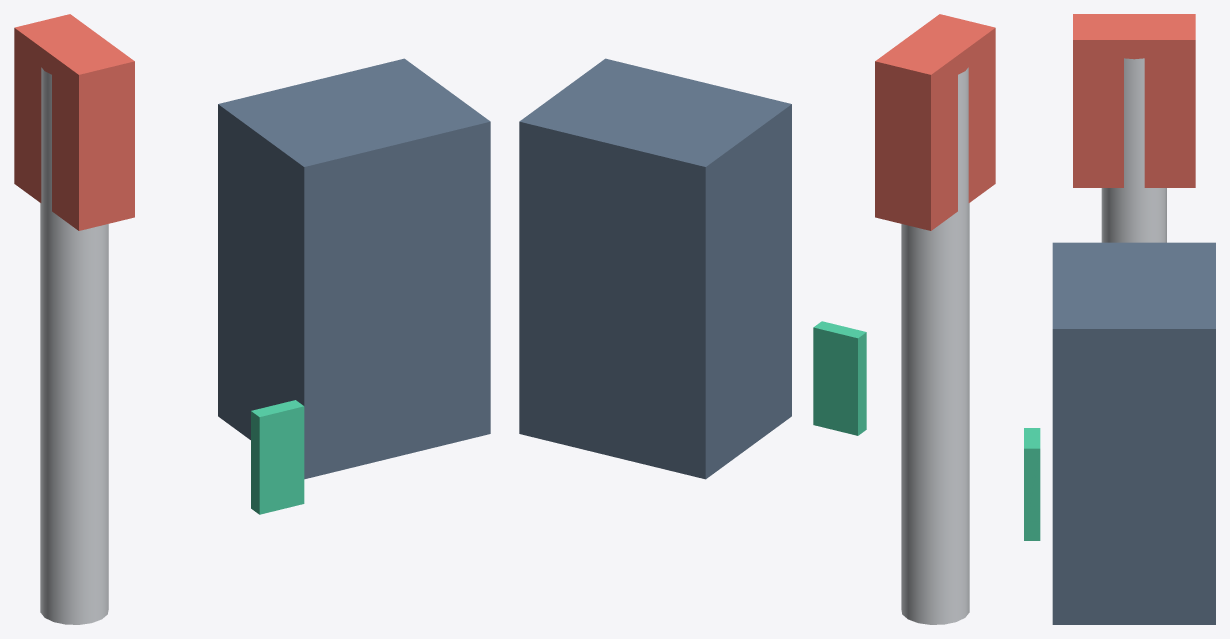
File: cellular_frequency_reuse_handoff.glb
The picture shows the model from 3 angles, left to right: view 1: azimuth 30°, elevation 25°; view 2: azimuth 150°, elevation 25°; view 3: azimuth 270°, elevation 25°; orthographic projection. The views are drawn at different scales.
Visible parts, largest first — view 1: MobileSwitchingCenterRack, BaseTransceiverStationMast, TriSectorPanelAntennaArray, CellularMobileHandsetUnit; view 2: MobileSwitchingCenterRack, BaseTransceiverStationMast, TriSectorPanelAntennaArray, CellularMobileHandsetUnit; view 3: MobileSwitchingCenterRack, TriSectorPanelAntennaArray, BaseTransceiverStationMast, CellularMobileHandsetUnit.
Boxes of the visible parts, left/top/right/bottom form: MobileSwitchingCenterRack: left=218, top=58, right=490, bottom=479; BaseTransceiverStationMast: left=40, top=67, right=108, bottom=624; TriSectorPanelAntennaArray: left=14, top=14, right=134, bottom=230; CellularMobileHandsetUnit: left=251, top=400, right=304, bottom=514; MobileSwitchingCenterRack: left=519, top=58, right=791, bottom=479; BaseTransceiverStationMast: left=901, top=67, right=969, bottom=624; TriSectorPanelAntennaArray: left=875, top=14, right=995, bottom=230; CellularMobileHandsetUnit: left=813, top=321, right=866, bottom=435; MobileSwitchingCenterRack: left=1052, top=242, right=1215, bottom=624; TriSectorPanelAntennaArray: left=1073, top=14, right=1195, bottom=187; BaseTransceiverStationMast: left=1101, top=58, right=1166, bottom=242; CellularMobileHandsetUnit: left=1024, top=428, right=1040, bottom=540.
Size of the model in its own units: 1.08 by 1.45 by 0.47.
